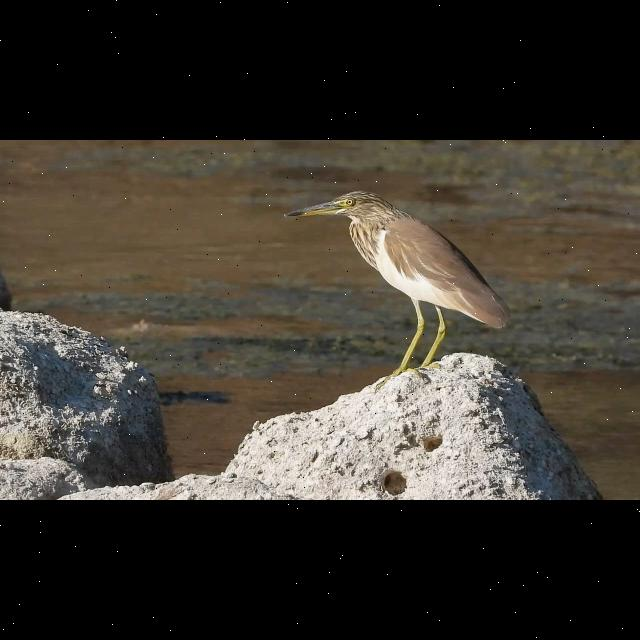heron: (286, 190, 507, 368)
